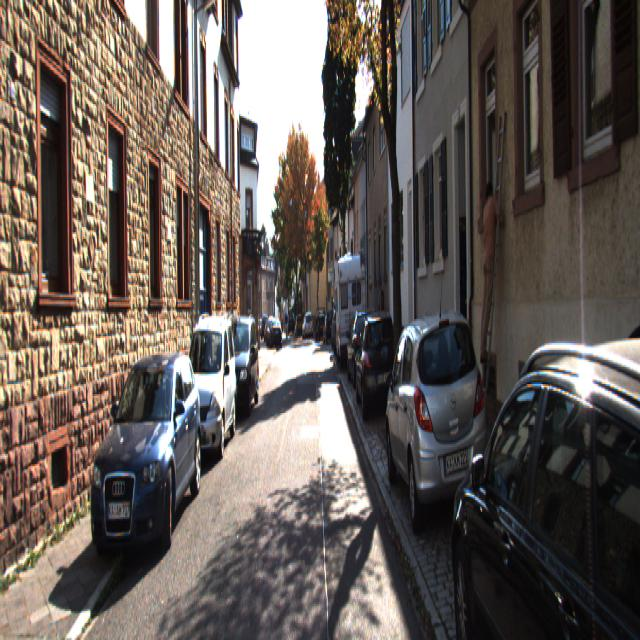Car: (446, 314, 640, 638), (80, 342, 202, 578), (384, 295, 492, 543), (174, 310, 238, 465), (352, 301, 400, 418), (220, 312, 262, 421), (333, 251, 368, 372), (344, 307, 382, 389), (313, 307, 329, 343), (322, 312, 336, 346), (269, 319, 283, 350), (301, 314, 314, 340)
